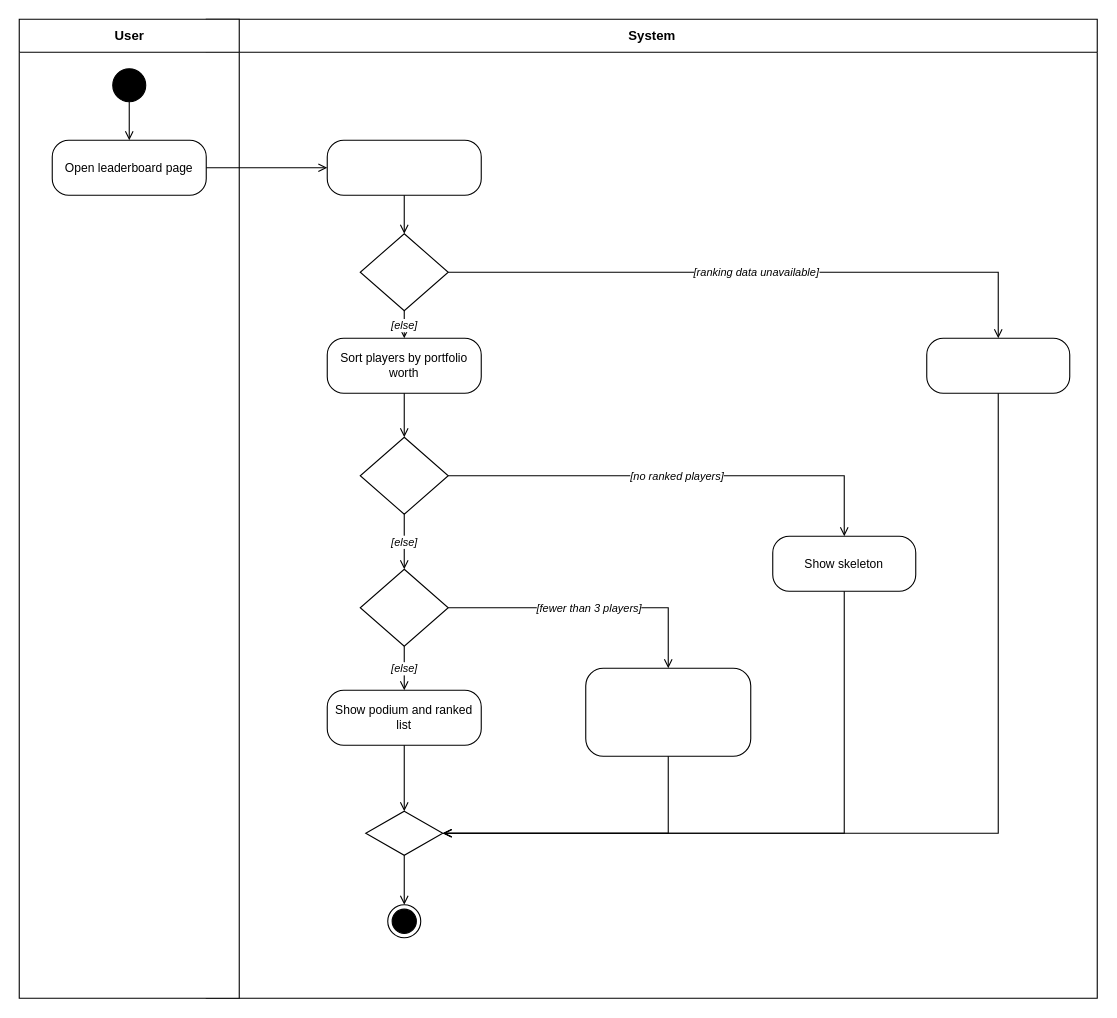
The diagram is 1117 pixels wide and 1018 high, and some of its shapes have lost their labels. The shapes that lost their labels are listed below. From the top down, each one's centre as x and y in pixels, then its label:
At pixel 403 167: "Load ranking data".
At pixel 998 365: "Show error message".
At pixel 668 711: "Show available players in their ranked places, without empty podium positions".
